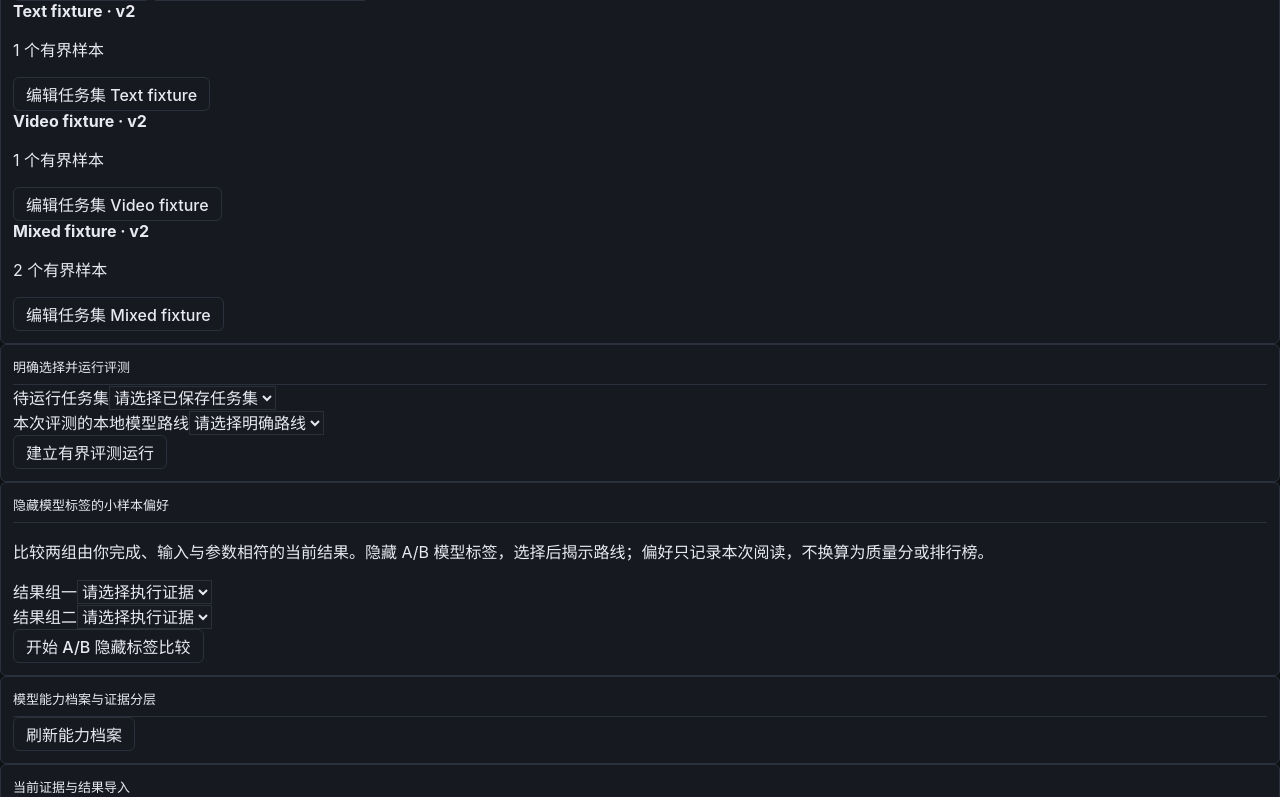
Test: bounded local T2V benchmark › keeps mount and run creation generation-free and filters local available VIDEO routes
This screenshot has width=1280, height=797.
(page scrolled)
Select "Text fixture · v2" in the dropdown labelled "待运行任务集" at (192, 398), box x1=109 y1=386 x2=276 y2=410
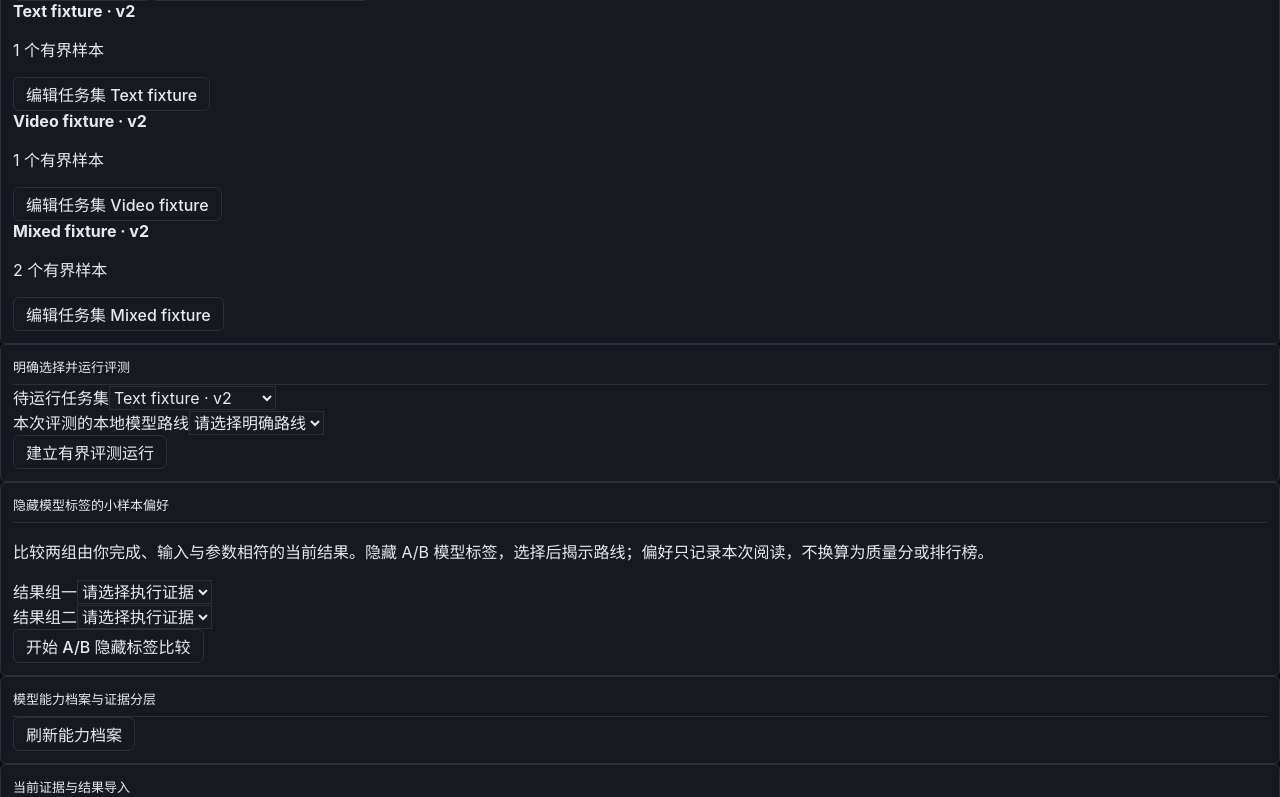
Select "Local text" in the dropdown labelled "本次评测的本地模型路线" at (256, 423), box x1=189 y1=411 x2=324 y2=435
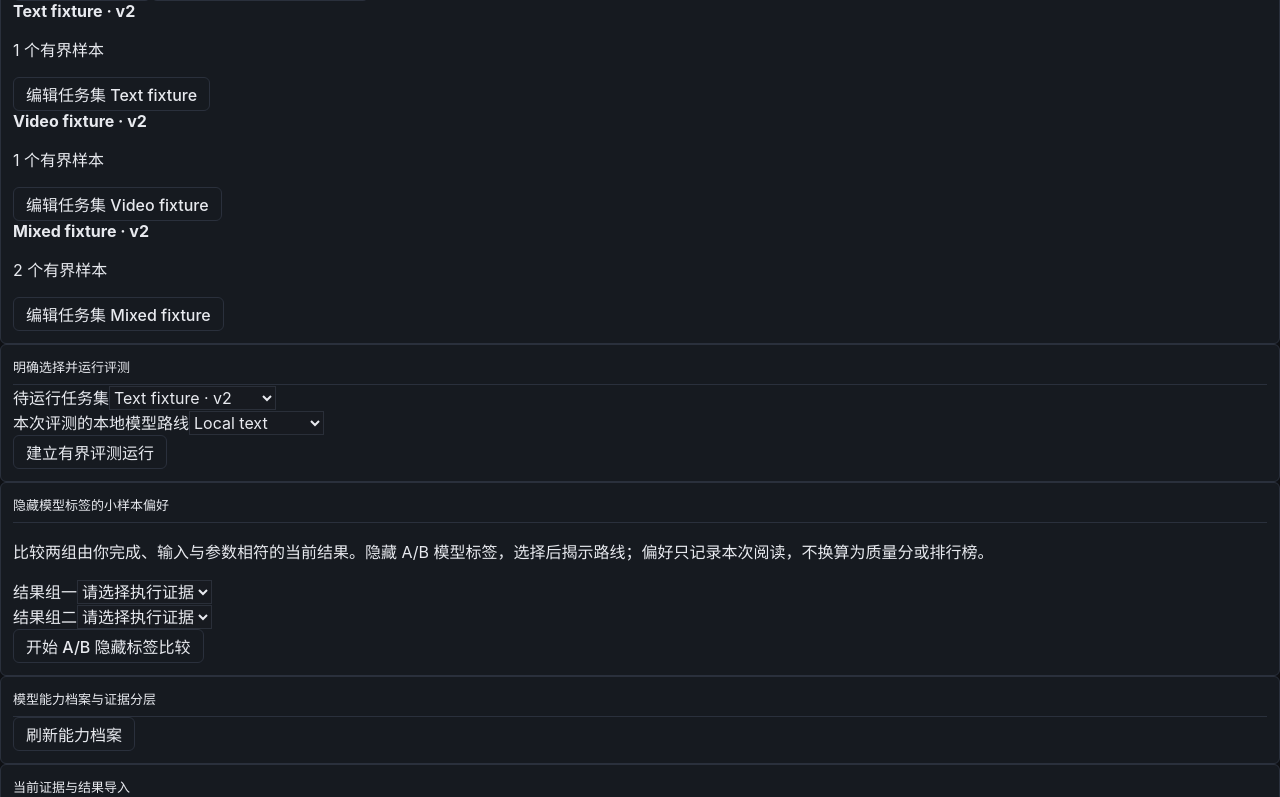
Select "Video fixture · v2" in the dropdown labelled "待运行任务集" at (192, 398), box x1=109 y1=386 x2=276 y2=410
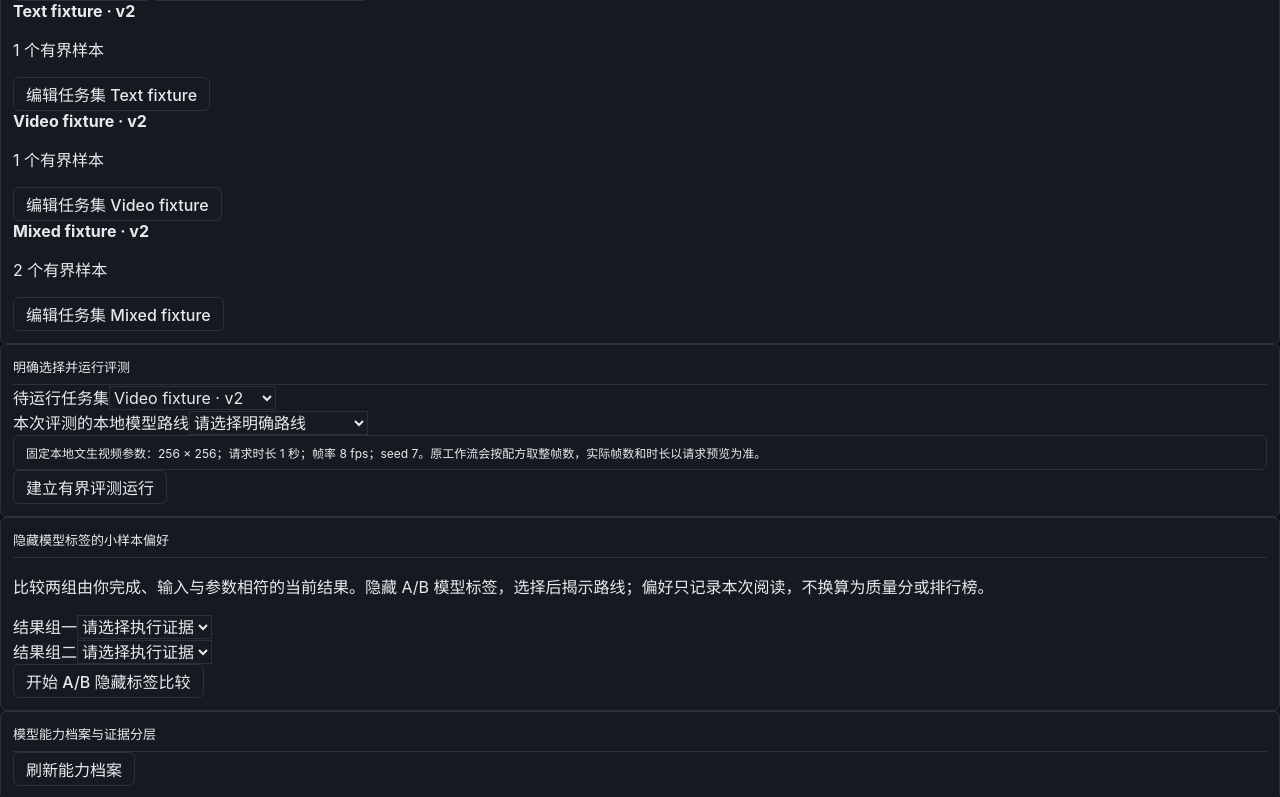
Check: the option "Local text" is not shown
Check: the button "建立有界评测运行" is disabled, box x1=13 y1=470 x2=167 y2=504
Check: the text "固定本地文生视频参数：256 × 256；请求时长 1 秒；帧率 8 fps；seed 7。原工作流会按配方取整帧数，实际帧数和时长以请求预览为准。" is shown, box x1=13 y1=435 x2=1267 y2=470
Select "Registered local T2V" in the dropdown labelled "本次评测的本地模型路线" at (278, 423), box x1=189 y1=411 x2=368 y2=435
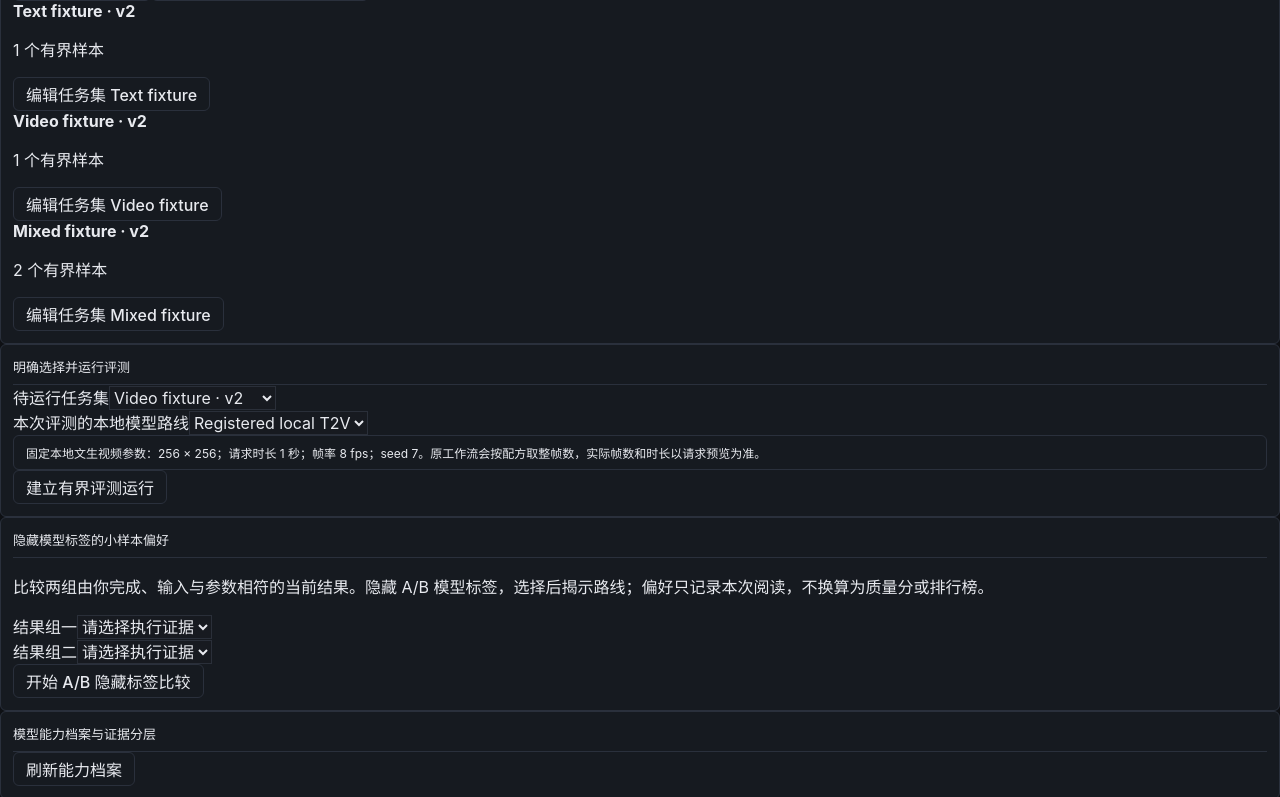
Click the button "建立有界评测运行" at (90, 487), box x1=13 y1=470 x2=167 y2=504
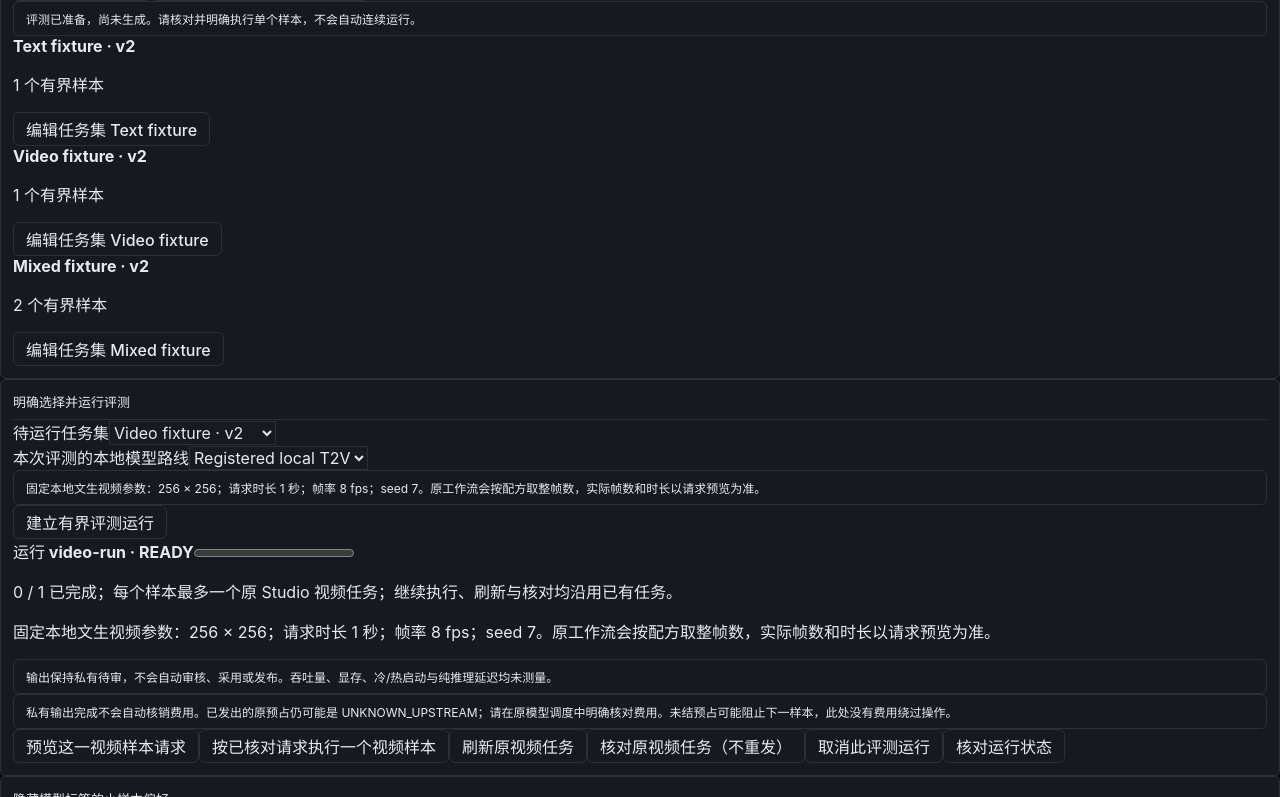
Check: the text "运行 video-run · READY" is shown, box x1=13 y1=542 x2=194 y2=562
Select "Mixed fixture · v2" in the dropdown labelled "待运行任务集" at (192, 433), box x1=109 y1=421 x2=276 y2=445
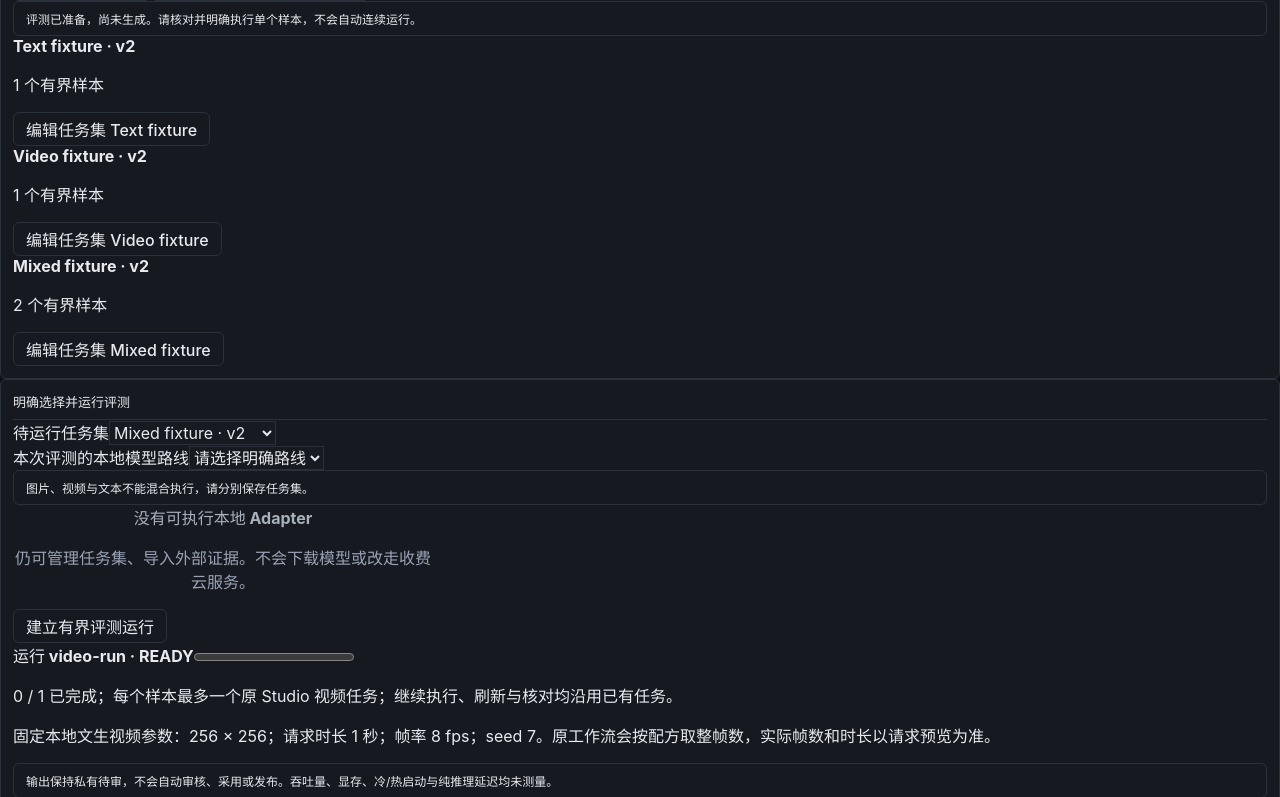
Check: the option "Registered local T2V" is not shown
Check: the button "建立有界评测运行" is disabled, box x1=13 y1=609 x2=167 y2=643
